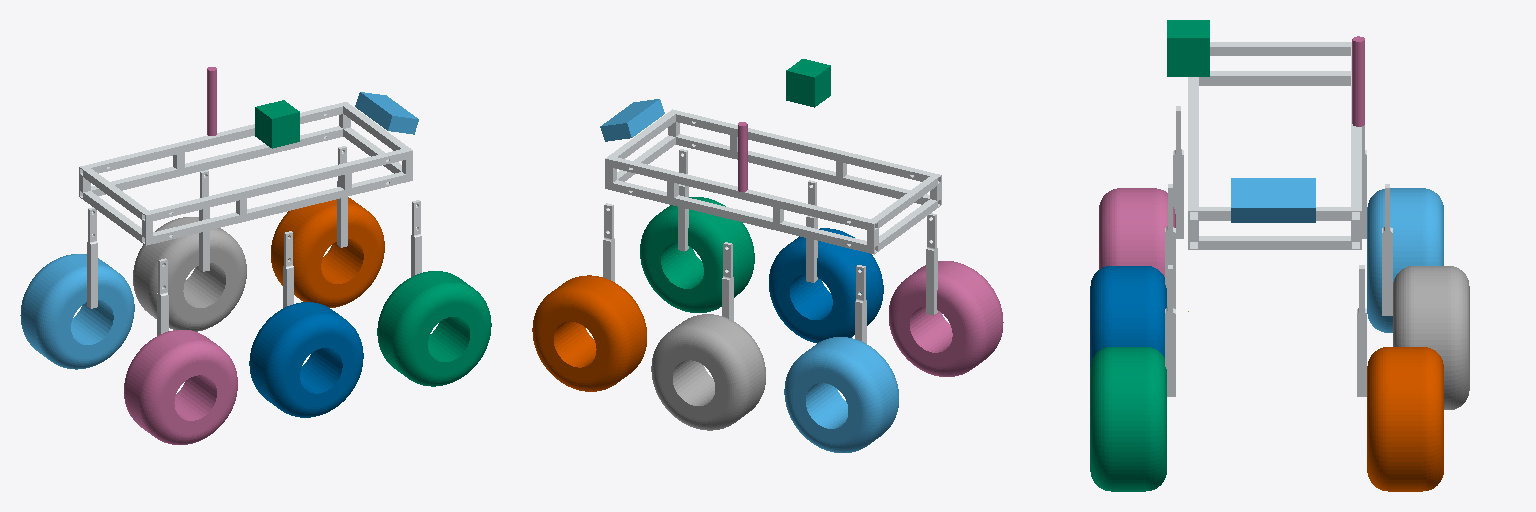
--- Render facts (derived) ---
The picture shows the robot from 3 angles, left to right: view 1: azimuth 30°, elevation 25°; view 2: azimuth 150°, elevation 25°; view 3: azimuth 270°, elevation 25°; orthographic projection.
Robot: eugene — 23 links, 22 joints (6 continuous, 7 prismatic, 9 fixed); root link base_link; default pose: every joint at zero.
Visible links, largest first — view 1: base_link, back_left_wheel, middle_left_wheel, front_left_wheel, front_right_wheel, back_right_wheel, middle_right_wheel, blackfly_mount_link, kinect_link, front_right_wheel_link, front_left_wheel_link, middle_right_wheel_link (+4 smaller); view 2: base_link, back_right_wheel, middle_right_wheel, front_right_wheel, front_left_wheel, back_left_wheel, middle_left_wheel, blackfly_mount_link, kinect_link, front_left_wheel_link, middle_left_wheel_link, middle_right_wheel_link (+4 smaller); view 3: back_right_wheel, back_left_wheel, base_link, middle_right_wheel, front_right_wheel, middle_left_wheel, front_left_wheel, kinect_link, blackfly_mount_link, middle_right_wheel_link, actuator1, back_right_wheel_link (+3 smaller).
Link boxes in pixels (x1,y1,x2,y2): base_link: (79,102,412,245); back_left_wheel: (377,271,491,386); middle_left_wheel: (249,302,363,417); front_left_wheel: (124,330,237,444); front_right_wheel: (20,254,134,369); back_right_wheel: (271,197,384,307); middle_right_wheel: (133,217,246,331); blackfly_mount_link: (255,100,299,148); kinect_link: (355,92,418,134); front_right_wheel_link: (87,207,97,308); front_left_wheel_link: (157,258,168,335); middle_right_wheel_link: (199,170,209,271); base_link: (605,109,941,254); back_right_wheel: (532,275,646,391); middle_right_wheel: (651,314,765,430); front_right_wheel: (784,337,898,452); front_left_wheel: (889,261,1003,376); back_left_wheel: (640,197,754,312); middle_left_wheel: (769,228,883,343); blackfly_mount_link: (786,59,830,107); kinect_link: (600,99,664,141); front_left_wheel_link: (926,213,937,315); middle_left_wheel_link: (806,180,817,282); middle_right_wheel_link: (722,242,733,320); back_right_wheel: (1367,347,1443,491); back_left_wheel: (1090,347,1166,491); base_link: (1188,42,1361,249); middle_right_wheel: (1393,266,1469,409); front_right_wheel: (1367,188,1443,332); middle_left_wheel: (1090,266,1166,366); front_left_wheel: (1099,188,1175,276); kinect_link: (1231,178,1315,222); blackfly_mount_link: (1167,20,1209,76); middle_right_wheel_link: (1382,184,1392,315); actuator1: (1352,36,1364,126); back_right_wheel_link: (1357,265,1366,396).
Bounding box of the posed robot: 1.22 × 0.89 × 0.96 m (x, y, z).
Meshes: 3 distinct files referenced, 13 mesh visuals loaded (3 binary STL).

URDF robot description (eugene):
<?xml version="1.0"?>
<robot name="eugene">

 <link name="base_link" >
  <visual>
  <origin rpy="0 0 1.570796327" xyz="0.5 0 -0.35"/> 
   <geometry>
    <mesh filename="package://new_robot/meshes/base_assembly.STL" scale="0.001 0.001 0.001"/> 
   </geometry>
   <material name="">
    <color rgba="0.898039215686275 0.917647058823529 0.929411764705882 1"/>
   </material>
  </visual>
  <collision>
   <origin rpy="0 0 1.570796327" xyz="0.5 0 -0.5"/>
	<geometry>
     <mesh filename="package://new_robot/meshes/base_assembly.STL" scale="0.001 0.001 0.001" />
	</geometry>
  </collision>
  <inertial>
   <origin rpy="0 0 1.570796327" xyz="0.5 0 -0.5"/>
   <mass value="0.05"/>
   <inertia ixx="0.015" iyy="0.0375" izz="0.0375"
   			ixy="0" ixz="0" iyz="0"/>
   </inertial>
  </link>
 
 <link name="kinect_link">
  <collision>
   <origin xyz="0 0 0" rpy="0 0.349066 0"/>
   <geometry>
    <box size="0.1 0.2 0.05"/>
   </geometry>
  </collision>
  <visual>
   <origin xyz="0 0 0" rpy="0 0.349066 0"/>
   <geometry>
    <box size="0.1 0.2 0.05"/>
   </geometry>
  </visual>
  <inertial>
   <mass value="1e-5"/>
   <origin xyz="0 0 0" rpy="0 0 0"/>
   <inertia ixx="1e-6" ixy="0" ixz="0"
            iyy="1e-6" iyz="0" izz="1e-6"/>
  </inertial>
 </link>

 <joint name="kinect_joint" type="fixed">
  <axis xyz="0 1 0"/>
  <origin xyz="0.5 0.2 0.64" rpy="0 0 0"/>
  <parent link="base_link"/>
  <child link="kinect_link"/>
 </joint>

 <link name="blackfly_mount_link">
  <collision>
   <origin xyz="0 0 0" rpy="0 0 0"/>
   <geometry>
    <box size="0.1 0.1 0.12"/>
   </geometry>
  </collision>
  <visual>
   <origin xyz="0 0 0" rpy="0 0 0"/>
   <geometry>
    <box size="0.1 0.1 0.1"/>
   </geometry>
  </visual>
  <inertial>
   <mass value="1e-5"/>
   <origin xyz="0 0 0" rpy="0 0 0"/>
   <inertia ixx="1e-6" ixy="0" ixz="0"
            iyy="1e-6" iyz="0" izz="1e-6"/>
  </inertial>
 </link>

 <joint name="blackfly_mount_joint" type="fixed">
  <axis xyz="0 1 0"/>
  <origin xyz="0 0 0.8" rpy="0 0 0"/>
  <parent link="base_link"/>
  <child link="blackfly_mount_link"/>
 </joint>

 <link name="imu_link">
  <inertial>
   <mass value="0.001"/>
   <origin rpy="0 0 0" xyz="0 0 0"/>
   <inertia ixx="0.0001" ixy="0" ixz="0" iyy="0.000001" iyz="0" izz="0.0001"/>
  </inertial>
  <visual>
    <origin rpy="0 0 0" xyz="0 0 0"/>
    <geometry>
      <box size="0.001 0.001 0.001"/>
    </geometry>
  </visual>
  <collision>
    <origin rpy="0 0 0" xyz="0 0 0"/>
    <geometry>
      <box size=".001 .001 .001"/>
    </geometry>
  </collision>
 </link>

 <joint name="imu_joint" type="fixed">
  <axis xyz="1 0 0"/>
  <origin xyz="0 0 0.12" rpy="0 0 0"/>
  <parent link="base_link"/>
  <child link="imu_link"/>
 </joint>

<!--
 <link name="left_middle_back_upper_parallelogram" >
  <visual>
  <origin rpy="0 0 0" xyz="0 -0.2 0"/>
   <geometry>
    <mesh filename="package://new_robot/meshes/preliminary_parallelogram_long.STL" scale="0.001 0.001 0.001"/> 
   </geometry>
   <material name="">
    <color rgba="0.898039215686275 0.917647058823529 0.929411764705882 1"/>
   </material>
  </visual>
  <collision>
   <origin rpy="0 0 0" xyz="0 0 0"/>
	<geometry>
     <mesh filename="package://new_robot/meshes/preliminary_parallelogram_long.STL" scale="0.001 0.001 0.001" />
	</geometry>
  </collision>
  <inertial>
   <origin rpy="0 0 0" xyz="0 0 0"/>
   <mass value="0.1"/>
   <inertia ixx="0.015" iyy="0.0375" izz="0.0375"
   			ixy="0" ixz="0" iyz="0"/>
   </inertial>
  </link>

 <joint name="left_middle_back_upper_parallelogram_joint" type="revolute">
  <axis xyz="0 0 1"/>
  <limit effort="1000" lower="-1.047197551" upper="1.047197551" velocity="0.4" />
  <origin xyz="0 0 -0.01" rpy="3.14159265359 3.14159265359 1.570796327" /> 
  <parent link="back_left_bolt"/>
  <child link="left_middle_back_upper_parallelogram"/>
 </joint>

 <link name="right_middle_back_upper_parallelogram" >
  <visual>
  <origin rpy="0 0 0" xyz="0 0 0"/>
   <geometry>
    <mesh filename="package://new_robot/meshes/preliminary_parallelogram_long.STL" scale="0.001 0.001 0.001"/> 
   </geometry>
   <material name="">
    <color rgba="0.898039215686275 0.917647058823529 0.929411764705882 1"/>
   </material>
  </visual>
  <collision>
   <origin rpy="0 0 0" xyz="0 0 0"/>
	<geometry>
     <mesh filename="package://new_robot/meshes/preliminary_parallelogram_long.STL" scale="0.001 0.001 0.001" />
	</geometry>
  </collision>
  <inertial>
   <origin rpy="0 0 0" xyz="0 0 0"/>
   <mass value="1.0"/>
   <inertia ixx="0.015" iyy="0.0375" izz="0.0375"
   			ixy="0" ixz="0" iyz="0"/>
   </inertial>
  </link>

 <joint name="right_middle_back_upper_parallelogram_joint" type="revolute">
  <axis xyz="0 0 1"/>
  <limit effort="1000" lower="-1.047197551" upper="1.047197551" velocity="0.4" />
  <origin xyz="0 0.3 -0.01" rpy="0 0 0" /> 
  <parent link="middle_right_wheel_link1"/>
  <child link="right_middle_back_upper_parallelogram"/>
 </joint>

 <link name="left_middle_back_lower_parallelogram" >
  <visual>
  <origin rpy="0 0 0" xyz="0 0 0"/>
   <geometry>
    <mesh filename="package://new_robot/meshes/preliminary_parallelogram_long.STL" scale="0.001 0.001 0.001"/> 
   </geometry>
   <material name="">
    <color rgba="0.898039215686275 0.917647058823529 0.929411764705882 1"/>
   </material>
  </visual>
  <collision>
   <origin rpy="0 0 0" xyz="0 0 0"/>
	<geometry>
     <mesh filename="package://new_robot/meshes/preliminary_parallelogram_long.STL" scale="0.001 0.001 0.001" />
	</geometry>
  </collision>
  <inertial>
   <origin rpy="0 0 0" xyz="0 0 0"/>
   <mass value="0.1"/>
   <inertia ixx="0.015" iyy="0.0375" izz="0.0375"
   			ixy="0" ixz="0" iyz="0"/>
   </inertial>
  </link>

 <joint name="left_middle_back_lower_parallelogram_joint" type="fixed">
  <axis xyz="0 0 1"/>
  <origin xyz="0 -0.07 0.0" rpy="0 0 0"/>
  <parent link="left_middle_back_upper_parallelogram"/>
  <child link="left_middle_back_lower_parallelogram"/>
 </joint>

 <link name="right_middle_back_lower_parallelogram" >
  <visual>
  <origin rpy="0 0 0" xyz="0 0 0"/>
   <geometry>
    <mesh filename="package://new_robot/meshes/preliminary_parallelogram_long.STL" scale="0.001 0.001 0.001"/> 
   </geometry>
   <material name="">
    <color rgba="0.898039215686275 0.917647058823529 0.929411764705882 1"/>
   </material>
  </visual>
  <collision>
   <origin rpy="0 0 0" xyz="0 0 0"/>
	<geometry>
     <mesh filename="package://new_robot/meshes/preliminary_parallelogram_long.STL" scale="0.001 0.001 0.001" />
	</geometry>
  </collision>
  <inertial>
   <origin rpy="0 0 0" xyz="0 0 0"/>
   <mass value="1.0"/>
   <inertia ixx="0.015" iyy="0.0375" izz="0.0375"
   			ixy="0" ixz="0" iyz="0"/>
   </inertial>
  </link>

 <joint name="right_middle_back_lower_parallelogram_joint" type="fixed">
  <axis xyz="0 0 1"/>
  <origin xyz="0 -0.05 0" rpy="0 0 0"/>
  <parent link="right_middle_back_upper_parallelogram"/>
  <child link="right_middle_back_lower_parallelogram"/>
 </joint>

 <link name="left_middle_front_upper_parallelogram" >
  <visual>
  <origin rpy="0 0 0" xyz="0 0 0"/>
   <geometry>
    <mesh filename="package://new_robot/meshes/preliminary_parallelogram_long.STL" scale="0.001 0.001 0.001"/> 
   </geometry>
   <material name="">
    <color rgba="0.898039215686275 0.917647058823529 0.929411764705882 1"/>
   </material>
  </visual>
  <collision>
   <origin rpy="0 0 0" xyz="0 0 0"/>
	<geometry>
     <mesh filename="package://new_robot/meshes/preliminary_parallelogram_long.STL" scale="0.001 0.001 0.001" />
	</geometry>
  </collision>
  <inertial>
   <origin rpy="0 0 0" xyz="0 0 0"/>
   <mass value="1.0"/>
   <inertia ixx="0.015" iyy="0.0375" izz="0.0375"
   			ixy="0" ixz="0" iyz="0"/>
   </inertial>
  </link>

 <joint name="left_middle_front_upper_parallelogram_joint" type="revolute">
  <axis xyz="0 0 1"/>
  <limit effort="1000" lower="-1.047197551" upper="1.047197551" velocity="0.4" />
  <origin xyz="0 0.3 0" rpy="0 3.141592654 0"/>
  <parent link="middle_left_wheel_link1"/>
  <child link="left_middle_front_upper_parallelogram"/>
 </joint>

 <link name="left_middle_front_lower_parallelogram" >
  <visual>
  <origin rpy="0 0 0" xyz="0 0 0"/>
   <geometry>
    <mesh filename="package://new_robot/meshes/preliminary_parallelogram_long.STL" scale="0.001 0.001 0.001"/> 
   </geometry>
   <material name="">
    <color rgba="0.898039215686275 0.917647058823529 0.929411764705882 1"/>
   </material>
  </visual>
  <collision>
   <origin rpy="0 0 0" xyz="0 0 0"/>
	<geometry>
     <mesh filename="package://new_robot/meshes/preliminary_parallelogram_long.STL" scale="0.001 0.001 0.001" />
	</geometry>
  </collision>
  <inertial>
   <origin rpy="0 0 0" xyz="0 0 0"/>
   <mass value="1.0"/>
   <inertia ixx="0.015" iyy="0.0375" izz="0.0375"
   			ixy="0" ixz="0" iyz="0"/>
   </inertial>
  </link>
 
 <joint name="left_middle_front_lower_parallelogram_joint" type="fixed">
  <axis xyz="0 0 1"/>
  <limit effort="1000" lower="-1.047197551" upper="1.047197551" velocity="0.4" />
  <origin xyz="0 -0.05 0" rpy="0 0 0"/>
  <parent link="left_middle_front_upper_parallelogram"/>
  <child link="left_middle_front_lower_parallelogram"/>
 </joint>

 <link name="right_middle_front_upper_parallelogram" >
  <visual>
  <origin rpy="0 0 0" xyz="0 0 0"/>
   <geometry>
    <mesh filename="package://new_robot/meshes/preliminary_parallelogram_long.STL" scale="0.001 0.001 0.001"/> 
   </geometry>
   <material name="">
    <color rgba="0.898039215686275 0.917647058823529 0.929411764705882 1"/>
   </material>
  </visual>
  <collision>
   <origin rpy="0 0 0" xyz="0 0 0"/>
	<geometry>
     <mesh filename="package://new_robot/meshes/preliminary_parallelogram_long.STL" scale="0.001 0.001 0.001" />
	</geometry>
  </collision>
  <inertial>
   <origin rpy="0 0 0" xyz="0 0 0"/>
   <mass value="1.0"/>
   <inertia ixx="0.015" iyy="0.0375" izz="0.0375"
   			ixy="0" ixz="0" iyz="0"/>
   </inertial>
  </link>

 <joint name="right_middle_front_upper_parallelogram_joint" type="revolute">
  <axis xyz="0 0 1"/>
  <limit effort="1000" lower="-1.047197551" upper="1.047197551" velocity="0.4" />
  <origin xyz="0 0.3 0" rpy="0 3.141592654 0"/>
  <parent link="middle_right_wheel_link1"/>
  <child link="right_middle_front_upper_parallelogram"/>
 </joint>

 <link name="right_middle_front_lower_parallelogram" >
  <visual>
  <origin rpy="0 0 0" xyz="0 0 0"/>
   <geometry>
    <mesh filename="package://new_robot/meshes/preliminary_parallelogram_long.STL" scale="0.001 0.001 0.001"/> 
   </geometry>
   <material name="">
    <color rgba="0.898039215686275 0.917647058823529 0.929411764705882 1"/>
   </material>
  </visual>
  <collision>
   <origin rpy="0 0 0" xyz="0 0 0"/>
	<geometry>
     <mesh filename="package://new_robot/meshes/preliminary_parallelogram_long.STL" scale="0.001 0.001 0.001" />
	</geometry>
  </collision>
  <inertial>
   <origin rpy="0 0 0" xyz="0 0 0"/>
   <mass value="1.0"/>
   <inertia ixx="0.015" iyy="0.0375" izz="0.0375"
   			ixy="0" ixz="0" iyz="0"/>
   </inertial>
  </link>

 <joint name="right_middle_front_lower_parallelogram_joint" type="fixed">
  <axis xyz="0 0 1"/>
  <origin xyz="0 -0.05 0" rpy="1.570796327 0 0"/>
  <parent link="right_middle_front_upper_parallelogram"/>
  <child link="right_middle_front_lower_parallelogram"/>
 </joint>
 --> 

<link name="front_left_bolt">
  <collision>
   <geometry>
	 <cylinder length = "0.05" radius = "0.02" />
   </geometry>
  </collision>
  <inertial>
   <mass value="0.025"/>
    <inertia ixx="5.1458e-5" iyy="5.1458e-5" izz="6.125e-5"
   			 ixy="0" ixz="0" iyz="0"/>
  </inertial>
 </link>

 <gazebo reference="front_left_bolt" >
   <material> Gazebo/Grey </material>
 </gazebo>

 <joint name="front_left_bolt_joint" type="fixed">
  <axis xyz="0 0 1"/>
  <parent link="base_link"/>
  <child link="front_left_bolt"/>
    <origin rpy="0 1.570796327 1.570796327" xyz="-0.6 0 0.42" />
 </joint>

 <link name="front_left_wheel_link" >
  <visual>
   <geometry>
    <mesh filename="package://new_robot/meshes/preliminary_middle_wheel_link.STL" scale="0.001 0.001 0.001"/> 
   </geometry>
   <material name="">
    <color rgba="0.898039215686275 0.917647058823529 0.929411764705882 1"/>
   </material>
  </visual>
  <collision>
	<geometry>
     <mesh filename="package://new_robot/meshes/preliminary_middle_wheel_link.STL" scale="0.001 0.001 0.001" />
	</geometry>
  </collision>
  <inertial>
   <origin rpy="0 0 0" xyz="0 0 0"/>
   <mass value="0.025"/>
   <inertia ixx="0.015" iyy="0.0375" izz="0.0375"
   			ixy="0" ixz="0" iyz="0"/>
   </inertial>
  </link>

 <joint name="front_left_wheel_link_joint" type="prismatic">
  <axis xyz="0 1 0"/>
  <limit effort="10000" lower="-0.2" upper="0.2" velocity="0.8" />
  <origin rpy="0 3.141592654 1.570796327" xyz="0.3 -0.17 -0.01" />
  <parent link="front_left_bolt"/>
  <child link="front_left_wheel_link"/>
 </joint>

 <link name="front_left_wheel">
  <visual>
   <origin xyz="-0.15 -0.18 0.1" rpy="0 1.570796327 0"/>
	<geometry>
	 <mesh filename="package://new_robot/meshes/Prototype_Wheel.STL" scale="0.001 0.001 0.001"/>
	</geometry>
   <material name="black"/>
  </visual>
  <collision>
	<geometry>
	 <sphere radius = "0.17" />
	</geometry>
  </collision>
  <inertial>
   <mass value="0.01"/>
    <inertia ixx="5.1458e-5" iyy="5.1458e-5" izz="6.125e-5"
   			 ixy="0" ixz="0" iyz="0"/>
  </inertial>
 </link>

 <gazebo reference="front_left_wheel" >
   <material> Gazebo/Black </material>
 </gazebo>

 <joint name="front_left_wheel_joint" type="continuous">
  <axis xyz="0 0 1"/>
  <parent link="front_left_wheel_link"/>
  <child link="front_left_wheel"/>
    <origin rpy="0 0 0" xyz="0 -0.05 0.1"/>
 </joint>

<link name="front_right_bolt">
  <collision>
   <geometry>
	 <cylinder length = "0.05" radius = "0.02" />
   </geometry>
  </collision>
  <inertial>
   <mass value="0.025"/>
    <inertia ixx="5.1458e-5" iyy="5.1458e-5" izz="6.125e-5"
   			 ixy="0" ixz="0" iyz="0"/>
  </inertial>
 </link>

 <gazebo reference="front_right_bolt" >
   <material> Gazebo/Grey </material>
 </gazebo>

 <joint name="front_right_bolt_joint" type="fixed">
  <axis xyz="0 0 1"/>
  <parent link="base_link"/>
  <child link="front_right_bolt"/>
    <origin rpy="0 1.570796327 1.570796327" xyz="-0.6 0.43 0.42" />
 </joint>

 <link name="front_right_wheel_link" >
  <visual>
   <geometry>
    <mesh filename="package://new_robot/meshes/preliminary_middle_wheel_link.STL" scale="0.001 0.001 0.001"/> 
   </geometry>
   <material name="">
    <color rgba="0.898039215686275 0.917647058823529 0.929411764705882 1"/>
   </material>
  </visual>
  <collision>
	<geometry>
     <mesh filename="package://new_robot/meshes/preliminary_middle_wheel_link.STL" scale="0.001 0.001 0.001" />
	</geometry>
  </collision>
  <inertial>
   <origin rpy="0 0 0" xyz="0 0 0"/>
   <mass value="0.025"/>
   <inertia ixx="0.015" iyy="0.0375" izz="0.0375"
   			ixy="0" ixz="0" iyz="0"/>
   </inertial>
  </link>

 <joint name="front_right_wheel_link_joint" type="prismatic">
  <axis xyz="0 1 0"/>
  <limit effort="10000" lower="-0.2" upper="0.2" velocity="0.8" />
  <origin rpy="0 3.141592654 1.570796327" xyz="0.3 -0.17 -0.01" />
  <parent link="front_right_bolt"/>
  <child link="front_right_wheel_link"/>
 </joint>

 <link name="front_right_wheel">
  <visual>
   <origin xyz="-0.15 -0.18 0.1" rpy="0 1.570796327 0"/>
	<geometry>
	 <mesh filename="package://new_robot/meshes/Prototype_Wheel.STL" scale="0.001 0.001 0.001"/>
	</geometry>
   <material name="black"/>
  </visual>
  <collision>
	<geometry>
	 <sphere radius = "0.17" />
	</geometry>
  </collision>
  <inertial>
   <mass value="0.01"/>
    <inertia ixx="5.1458e-5" iyy="5.1458e-5" izz="6.125e-5"
   			 ixy="0" ixz="0" iyz="0"/>
  </inertial>
 </link>

 <gazebo reference="front_right_wheel" >
   <material> Gazebo/Black </material>
 </gazebo>

 <joint name="front_right_wheel_joint" type="continuous">
  <axis xyz="0 0 1"/>
  <parent link="front_right_wheel_link"/>
  <child link="front_right_wheel"/>
    <origin rpy="0 0 0" xyz="0 -0.05 -0.1"/>
 </joint>

<link name="middle_left_bolt">
  <collision>
   <geometry>
	 <cylinder length = "0.05" radius = "0.02" />
   </geometry>
  </collision>
  <inertial>
   <mass value="0.025"/>
    <inertia ixx="5.1458e-5" iyy="5.1458e-5" izz="6.125e-5"
   			 ixy="0" ixz="0" iyz="0"/>
  </inertial>
 </link>

 <gazebo reference="middle_left_bolt" >
   <material> Gazebo/Grey </material>
 </gazebo>

 <joint name="middle_left_bolt_joint" type="fixed">
  <axis xyz="0 0 1"/>
  <parent link="base_link"/>
  <child link="middle_left_bolt"/>
    <origin rpy="0 1.570796327 1.570796327" xyz="0 0 0.42" />
 </joint>

 <link name="middle_left_wheel_link" >
  <visual>
   <geometry>
    <mesh filename="package://new_robot/meshes/preliminary_middle_wheel_link.STL" scale="0.001 0.001 0.001"/> 
   </geometry>
   <material name="">
    <color rgba="0.898039215686275 0.917647058823529 0.929411764705882 1"/>
   </material>
  </visual>
  <collision>
	<geometry>
     <mesh filename="package://new_robot/meshes/preliminary_middle_wheel_link.STL" scale="0.001 0.001 0.001" />
	</geometry>
  </collision>
  <inertial>
   <origin rpy="0 0 0" xyz="0 0 0"/>
   <mass value="0.025"/>
   <inertia ixx="0.015" iyy="0.0375" izz="0.0375"
   			ixy="0" ixz="0" iyz="0"/>
   </inertial>
  </link>

 <joint name="middle_left_wheel_link_joint" type="prismatic">
  <axis xyz="0 1 0"/>
  <limit effort="10000" lower="-0.2" upper="0.2" velocity="0.8" />
  <origin rpy="0 3.141592654 1.570796327" xyz="0.3 0 -0.03" />
  <parent link="middle_left_bolt"/>
  <child link="middle_left_wheel_link"/>
 </joint>

 <gazebo reference="middle_left_wheel" >
   <material> Gazebo/Black </material>
 </gazebo>

 <link name="middle_left_wheel">
  <visual>
   <origin xyz="-0.15 -0.18 0.1" rpy="0 1.570796327 0"/>
	<geometry>
	 <mesh filename="package://new_robot/meshes/Prototype_Wheel.STL" scale="0.001 0.001 0.001"/>
   </geometry>
   <material name="black"/>
  </visual>
  <collision>
   <geometry>
	 <sphere radius = "0.17" />
   </geometry>
  </collision>
  <inertial>
   <mass value="0.01"/>
    <inertia ixx="5.1458e-5" iyy="5.1458e-5" izz="6.125e-5"
   			 ixy="0" ixz="0" iyz="0"/>
  </inertial>
 </link>

 <gazebo reference="middle_left_wheel" >
   <material> Gazebo/Black </material>
 </gazebo>

 <joint name="middle_left_wheel_joint" type="continuous">
  <axis xyz="0 0 1"/>
  <parent link="middle_left_wheel_link"/>
  <child link="middle_left_wheel"/>
    <origin rpy="0 0 0" xyz="0 -0.05 0.1" />
 </joint>

<link name="middle_right_bolt">
  <collision>
   <geometry>
	 <cylinder length = "0.05" radius = "0.02" />
   </geometry>
  </collision>
  <inertial>
   <mass value="0.025"/>
    <inertia ixx="5.1458e-5" iyy="5.1458e-5" izz="6.125e-5"
   			 ixy="0" ixz="0" iyz="0"/>
  </inertial>
 </link>

 <gazebo reference="middle_right_bolt" >
   <material> Gazebo/Grey </material>
 </gazebo>

 <joint name="middle_right_bolt_joint" type="fixed">
  <axis xyz="0 0 1"/>
  <parent link="base_link"/>
  <child link="middle_right_bolt"/>
    <origin rpy="0 1.570796327 1.570796327" xyz="0 0.43 0.42" />
 </joint>

 <link name="middle_right_wheel_link" >
  <visual>
   <geometry>
    <mesh filename="package://new_robot/meshes/preliminary_middle_wheel_link.STL" scale="0.001 0.001 0.001"/> 
   </geometry>
   <material name="">
    <color rgba="0.898039215686275 0.917647058823529 0.929411764705882 1"/>
   </material>
  </visual>
  <collision>
	<geometry>
     <mesh filename="package://new_robot/meshes/preliminary_middle_wheel_link.STL" scale="0.001 0.001 0.001" />
	</geometry>
  </collision>
  <inertial>
   <origin rpy="0 0 0" xyz="0 0 0"/>
   <mass value="0.025"/>
   <inertia ixx="0.015" iyy="0.0375" izz="0.0375"
   			ixy="0" ixz="0" iyz="0"/>
   </inertial>
  </link>

 <joint name="middle_right_wheel_link_joint" type="prismatic">
  <axis xyz="0 1 0"/>
  <limit effort="10000" lower="-0.2" upper="0.2" velocity="0.8" />
  <origin rpy="0 3.141592654 1.570796327" xyz="0.3 0 0.05" />
  <parent link="middle_right_bolt"/>
  <child link="middle_right_wheel_link"/>
 </joint>

 <link name="middle_right_wheel">
  <visual>
   <origin xyz="-0.15 -0.18 0.1" rpy="0 1.570796327 0"/>
	<geometry>
	 <mesh filename="package://new_robot/meshes/Prototype_Wheel.STL" scale="0.001 0.001 0.001"/>
   </geometry>
   <material name="black"/>
  </visual>
  <collision>
   <geometry>
	 <sphere radius = "0.17" />
   </geometry>
  </collision>
  <inertial>
   <mass value="0.01"/>
    <inertia ixx="5.1458e-5" iyy="5.1458e-5" izz="6.125e-5"
   			 ixy="0" ixz="0" iyz="0"/>
  </inertial>
 </link>

 <gazebo reference="middle_right_wheel" >
   <material> Gazebo/Black </material>
 </gazebo>

 <joint name="middle_right_wheel_joint" type="continuous">
  <axis xyz="0 0 1"/>
  <parent link="middle_right_wheel_link"/>
  <child link="middle_right_wheel"/>
    <origin rpy="0 0 0" xyz="0 -0.05 -0.1" />
 </joint>

 <link name="back_left_bolt">
  <collision>
   <geometry>
	 <cylinder length = "0.05" radius = "0.02" />
   </geometry>
  </collision>
  <inertial>
   <mass value="0.025"/>
    <inertia ixx="5.1458e-5" iyy="5.1458e-5" izz="6.125e-5"
   			 ixy="0" ixz="0" iyz="0"/>
  </inertial>
 </link>

 <gazebo reference="back_left_bolt" >
   <material> Gazebo/Grey </material>
 </gazebo>

 <joint name="back_left_bolt_joint" type="fixed">
  <axis xyz="0 0 1"/>
  <parent link="base_link"/>
  <child link="back_left_bolt"/>
    <origin rpy="0 1.570796327 1.570796327" xyz="0.5 0 0.42" />
 </joint>

 <link name="back_left_wheel_link" >
  <visual>
   <geometry>
    <mesh filename="package://new_robot/meshes/preliminary_middle_wheel_link.STL" scale="0.001 0.001 0.001"/> 
   </geometry>
   <material name="">
    <color rgba="0.898039215686275 0.917647058823529 0.929411764705882 1"/>
   </material>
  </visual>
  <collision>
	<geometry>
     <mesh filename="package://new_robot/meshes/preliminary_middle_wheel_link.STL" scale="0.001 0.001 0.001" />
	</geometry>
  </collision>
  <inertial>
   <origin rpy="0 0 0" xyz="0 0 0"/>
   <mass value="0.025"/>
   <inertia ixx="0.015" iyy="0.0375" izz="0.0375"
   			ixy="0" ixz="0" iyz="0"/>
   </inertial>
  </link>

 <joint name="back_left_wheel_link_joint" type="prismatic">
  <axis xyz="0 1 0"/>
  <limit effort="10000" lower="-0.2" upper="0.2" velocity="0.8" />
  <origin rpy="0 3.141592654 1.570796327" xyz="0.3 0.05 -0.03" />
  <parent link="back_left_bolt"/>
  <child link="back_left_wheel_link"/>
 </joint>

 <link name="back_left_wheel">
  <visual>
   <origin xyz="-0.15 -0.18 0.1" rpy="0 1.570796327 0"/>
	<geometry>
	 <mesh filename="package://new_robot/meshes/Prototype_Wheel.STL" scale="0.001 0.001 0.001"/>
	</geometry>
   <material name="black"/>
  </visual>
  <collision>
    <geometry>
	 <sphere radius = "0.17" />
	</geometry>
  </collision>
  <inertial>
   <mass value="0.01"/>
    <inertia ixx="5.1458e-5" iyy="5.1458e-5" izz="6.125e-5"
   			 ixy="0" ixz="0" iyz="0"/>
  </inertial>
 </link>

 <gazebo reference="back_left_wheel" >
   <material> Gazebo/Black </material>
 </gazebo>

 <joint name="back_left_wheel_joint" type="continuous">
  <axis xyz="0 0 1"/>
  <parent link="back_left_wheel_link"/>
  <child link="back_left_wheel"/>
    <origin rpy="0 0 0" xyz="0 -0.05 0.1"/>
 </joint>

<link name="back_right_bolt">
  <collision>
   <geometry>
	 <cylinder length = "0.05" radius = "0.02" />
   </geometry>
  </collision>
  <inertial>
   <mass value="0.025"/>
    <inertia ixx="5.1458e-5" iyy="5.1458e-5" izz="6.125e-5"
   			 ixy="0" ixz="0" iyz="0"/>
  </inertial>
 </link>

 <gazebo reference="back_right_bolt" >
   <material> Gazebo/Grey </material>
 </gazebo>

 <joint name="back_right_bolt_joint" type="fixed">
  <axis xyz="0 0 1"/>
  <parent link="base_link"/>
  <child link="back_right_bolt"/>
    <origin rpy="0 1.570796327 1.570796327" xyz="0.5 0.43 0.42" />
 </joint>

 <link name="back_right_wheel_link" >
  <visual>
   <geometry>
    <mesh filename="package://new_robot/meshes/preliminary_middle_wheel_link.STL" scale="0.001 0.001 0.001"/> 
   </geometry>
   <material name="">
    <color rgba="0.898039215686275 0.917647058823529 0.929411764705882 1"/>
   </material>
  </visual>
  <collision>
	<geometry>
     <mesh filename="package://new_robot/meshes/preliminary_middle_wheel_link.STL" scale="0.001 0.001 0.001" />
	</geometry>
  </collision>
  <inertial>
   <origin rpy="0 0 0" xyz="0 0 0"/>
   <mass value="0.025"/>
   <inertia ixx="0.015" iyy="0.0375" izz="0.0375"
   			ixy="0" ixz="0" iyz="0"/>
   </inertial>
  </link>

 <joint name="back_right_wheel_link_joint" type="prismatic">
  <axis xyz="0 1 0"/>
  <limit effort="10000" lower="-0.2" upper="0.2" velocity="0.8" />
  <origin rpy="0 3.141592654 1.570796327" xyz="0.3 0.05 -0.01" />
  <parent link="back_right_bolt"/>
  <child link="back_right_wheel_link"/>
 </joint>

 <link name="back_right_wheel">
  <visual>
   <origin xyz="-0.15 -0.18 0.1" rpy="0 1.570796327 0"/>
	<geometry>
	 <mesh filename="package://new_robot/meshes/Prototype_Wheel.STL" scale="0.001 0.001 0.001"/>
	</geometry>
   <material name="black"/>
  </visual>
  <collision>
    <geometry>
	 <sphere radius = "0.17" />
	</geometry>
  </collision>
  <inertial>
   <mass value="0.01"/>
    <inertia ixx="5.1458e-5" iyy="5.1458e-5" izz="6.125e-5"
   			 ixy="0" ixz="0" iyz="0"/>
  </inertial>
 </link>

 <gazebo reference="back_right_wheel" >
   <material> Gazebo/Black </material>
 </gazebo>

 <joint name="back_right_wheel_joint" type="continuous">
  <axis xyz="0 0 1"/>
  <parent link="back_right_wheel_link"/>
  <child link="back_right_wheel"/>
    <origin rpy="0 0 0" xyz="0 -0.05 -0.1"/>
 </joint>

 <link name="actuator1">
  <visual>
    <geometry>
     <cylinder length="0.22" radius="0.015"/>
    </geometry>
   <material name="gray"/>
  </visual>
  <collision>
    <geometry>
     <cylinder length="0.22" radius="0.015"/>
    </geometry>
   <material name="gray"/>
  </collision>
  <inertial>
   <mass value="0.01"/>
    <inertia ixx="5.1458e-5" iyy="5.1458e-5" izz="6.125e-5"
		 ixy="0" ixz="0" iyz="0"/>
  </inertial>
 </link>

 <joint name="actuator1_joint" type="prismatic">
  <limit effort="10000" lower="-0.2" upper="0.2" velocity="0.8" />
  <axis xyz="0 0 1"/>
  <parent link="base_link"/>
  <child link="actuator1"/>
  	<origin rpy="0 0 0" xyz="0 0.4 0.715"/>
 </joint>

 <transmission name="tran1">
  <type>transmission_interface/SimpleTransmission</type>
  <joint name="actuator1_joint">
   <hardwareInterface>hardware_interface/EffortJointInterface</hardwareInterface>
  </joint>
  <actuator name="digging_actuator1">
   <hardwareInterface>hardware_interface/EffortJointInterface</hardwareInterface>
   <mechanicalReduction>1</mechanicalReduction>
  </actuator>
 </transmission>
  
 <gazebo>
  <plugin name="gazebo_ros_control" filename="libgazebo_ros_control.so">
   <robotNamespace>/eugene</robotNamespace>
  </plugin>

  <plugin name="hector_6w_diff_controller" filename="libdiffdrive_plugin_6w.so">
   <alwaysOn> 1 </alwaysOn>
   <updateRate> 20.0 </updateRate>
   <wheelSeparation> 0.4 </wheelSeparation>
   <wheelDiameter> 0.34 </wheelDiameter>
   <odometryTopic>odom</odometryTopic>
   <odometryFrame>odom</odometryFrame>
   <odometrySource>world</odometrySource>
   <publishOdometryMsg> 1 </publishOdometryMsg>
   <publishOdometryTf>1</publishOdometryTf>
   <torque> 0.5 </torque>
   <frontLeftJoint> front_left_wheel_joint </frontLeftJoint>
   <frontRightJoint> front_right_wheel_joint </frontRightJoint>
   <midLeftJoint> middle_left_wheel_joint </midLeftJoint>
   <midRightJoint> middle_right_wheel_joint </midRightJoint>
   <rearLeftJoint> back_left_wheel_joint </rearLeftJoint>
   <rearRightJoint> back_right_wheel_joint </rearRightJoint>
  </plugin>
 </gazebo>

 <!-- camera -->
  <gazebo reference="kinect_link">
    <sensor name="crab_eyes" type="depth">
    <camera>
     <horizontal_fov>1.5</horizontal_fov>
      <image>
        <width>1024</width>
        <height>800</height>
        <format>R8G8B8</format>
      </image>
      <clip>
        <near>.1</near>
        <far>20</far>
      </clip>
    </camera>

   <plugin name="camera_controller" filename="libgazebo_ros_openni_kinect.so">
             <alwaysOn>true</alwaysOn>
                <updateRate>20.0</updateRate>
				<frequency>20.0</frequency>
                <cameraName>camera</cameraName>
                <frameName>kinect_link</frameName>                   
            <imageTopicName>rgb/image_raw</imageTopicName>
            <depthImageTopicName>depth/image_raw</depthImageTopicName>
            <pointCloudTopicName>depth/points</pointCloudTopicName>
            <cameraInfoTopicName>rgb/camera_info</cameraInfoTopicName>              
            <depthImageCameraInfoTopicName>depth/camera_info</depthImageCameraInfoTopicName>            
            <pointCloudCutoff>0.4</pointCloudCutoff>                
                <hackBaseline>0.07</hackBaseline>
                <distortionK1>0.0</distortionK1>
                <distortionK2>0.0</distortionK2>
                <distortionK3>0.0</distortionK3>
                <distortionT1>0.0</distortionT1>
                <distortionT2>0.0</distortionT2>
            <CxPrime>0.0</CxPrime>
            <Cx>0.0</Cx>
            <Cy>0.0</Cy>
            <focalLength>0.0</focalLength>
            </plugin>
    </sensor>
  </gazebo>

 <gazebo reference="blackfly_mount_link">
   <sensor name="blackfly_camera" type="camera">
    <camera>
	<horizontal_fov>1.2217</horizontal_fov>
      <image>
        <width>1624</width>
        <height>1224</height>
        <format>R8G8B8</format>
      </image>
      <clip>
        <near>0.01</near>
        <far>300</far>
      </clip>
	  <noise>
	   <type>gaussian</type>
	   <mean>0.0</mean>
	   <stddev>0.000</stddev>
	  </noise>
   </camera>
   
   <plugin name="camera_controller" filename="libgazebo_ros_camera.so">
	 <alwaysOn>true</alwaysOn>
		<updateRate>20.0</updateRate>
		<frequency>20.0</frequency>
		<cameraName>blackfly</cameraName>
		<frameName>blackfly_mount_link</frameName>                   
	<imageTopicName>image_raw</imageTopicName>
	<cameraInfoTopicName>camera_info</cameraInfoTopicName>              
		<hackBaseline>0.07</hackBaseline>
		<distortionK1>0.0</distortionK1>
		<distortionK2>0.0</distortionK2>
		<distortionK3>0.0</distortionK3>
		<distortionT1>0.0</distortionT1>
		<distortionT2>0.0</distortionT2>
	</plugin>
   </sensor>
  </gazebo>

 <gazebo>
   <plugin name="imu" filename="libhector_gazebo_ros_imu.so">
    <serviceName>/imu/calibrate</serviceName>
    <updateRate>200.0</updateRate>
    <bodyName>imu_link</bodyName>
    <frameId>imu_link</frameId>
    <topicName>imu</topicName>
    <rpyOffset>0 0 0</rpyOffset>
    <xyzOffset>0 0 0</xyzOffset>
    <gaussianNoise>0.00000001</gaussianNoise>
    <accelDrift>0.00000001 0.00000001 0.00000001</accelDrift>
    <accelDriftFrequency>0.00000001 0.00000001 0.00000001</accelDriftFrequency>
    <accelGaussianNoise>0.00000001 0.00000001 0.00000001</accelGaussianNoise>
    <rateDrift>0.0 0.0 0.0</rateDrift>
    <rateDriftFrequency>0.0 0.0 0.0</rateDriftFrequency>
    <rateGaussianNoise>0.0 0.0 0.0</rateGaussianNoise>
    <headingDrift>0.0 0.0 0.0</headingDrift>
    <headingDriftFrequency>0.0 0.0 0.0</headingDriftFrequency>
    <headingGaussianNoise>0.0 0.0 0.0</headingGaussianNoise>
  </plugin>
 </gazebo>

</robot>
